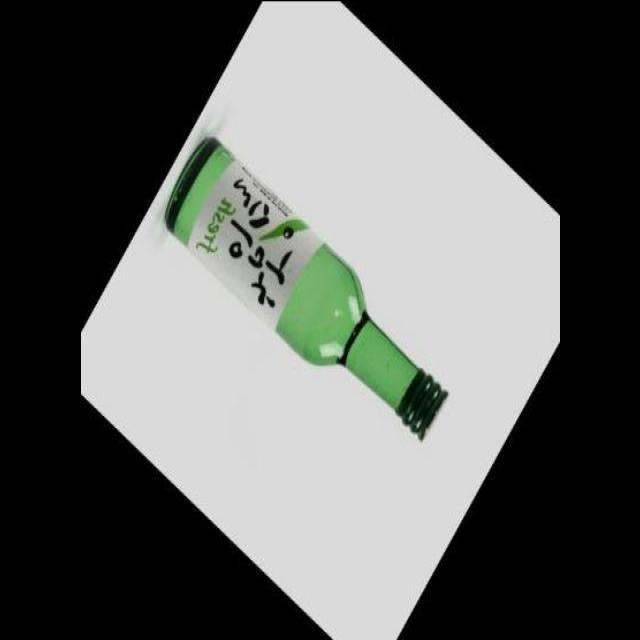Glass: (156, 128, 454, 450)
